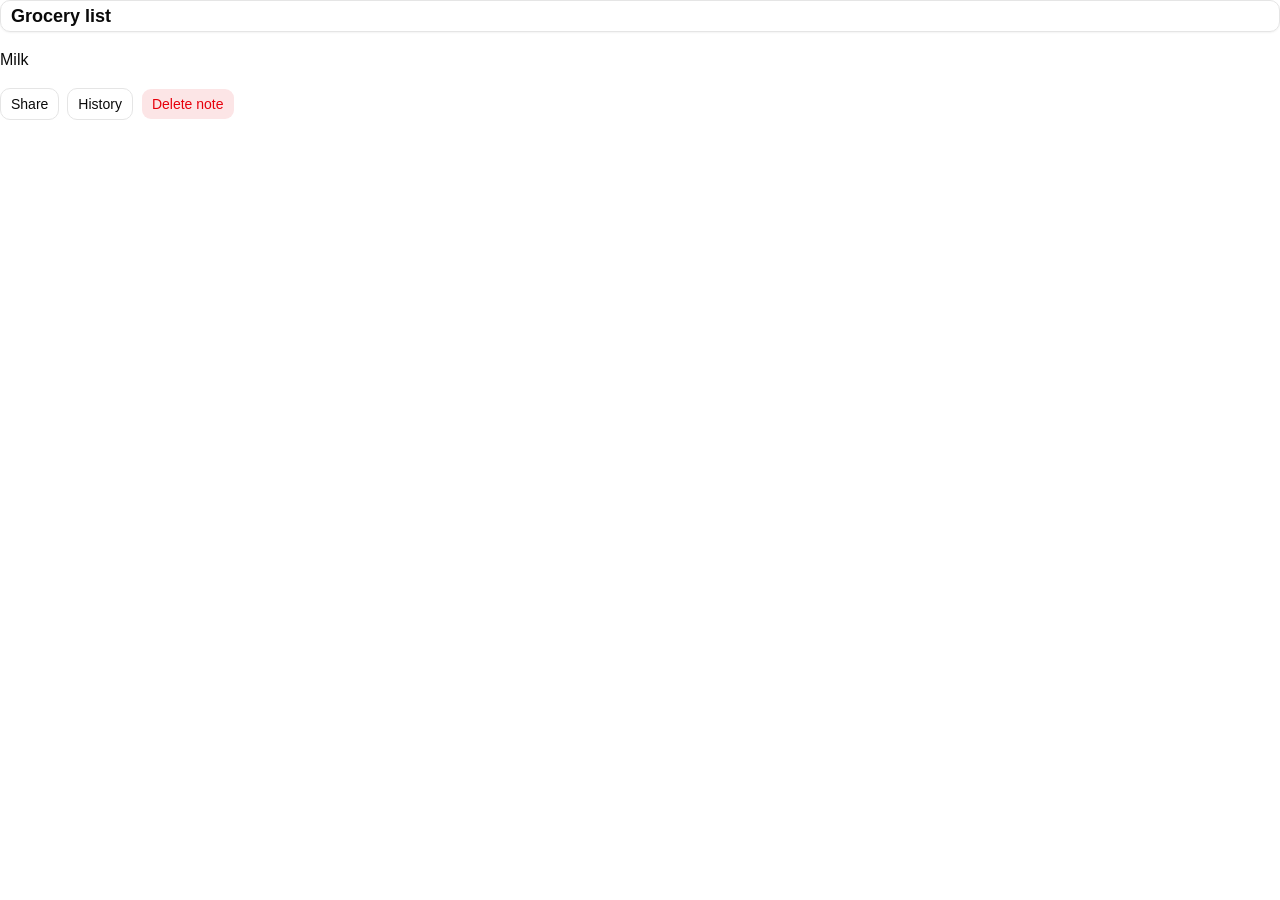
it: NoteEditorPage share entry point › opens the Share modal for the loaded note
expect the field named "title" holds "Grocery list": met, box x1=0 y1=0 x2=1279 y2=32
Step 1. Click the button "Share" → click(30, 104), box x1=0 y1=88 x2=59 y2=120
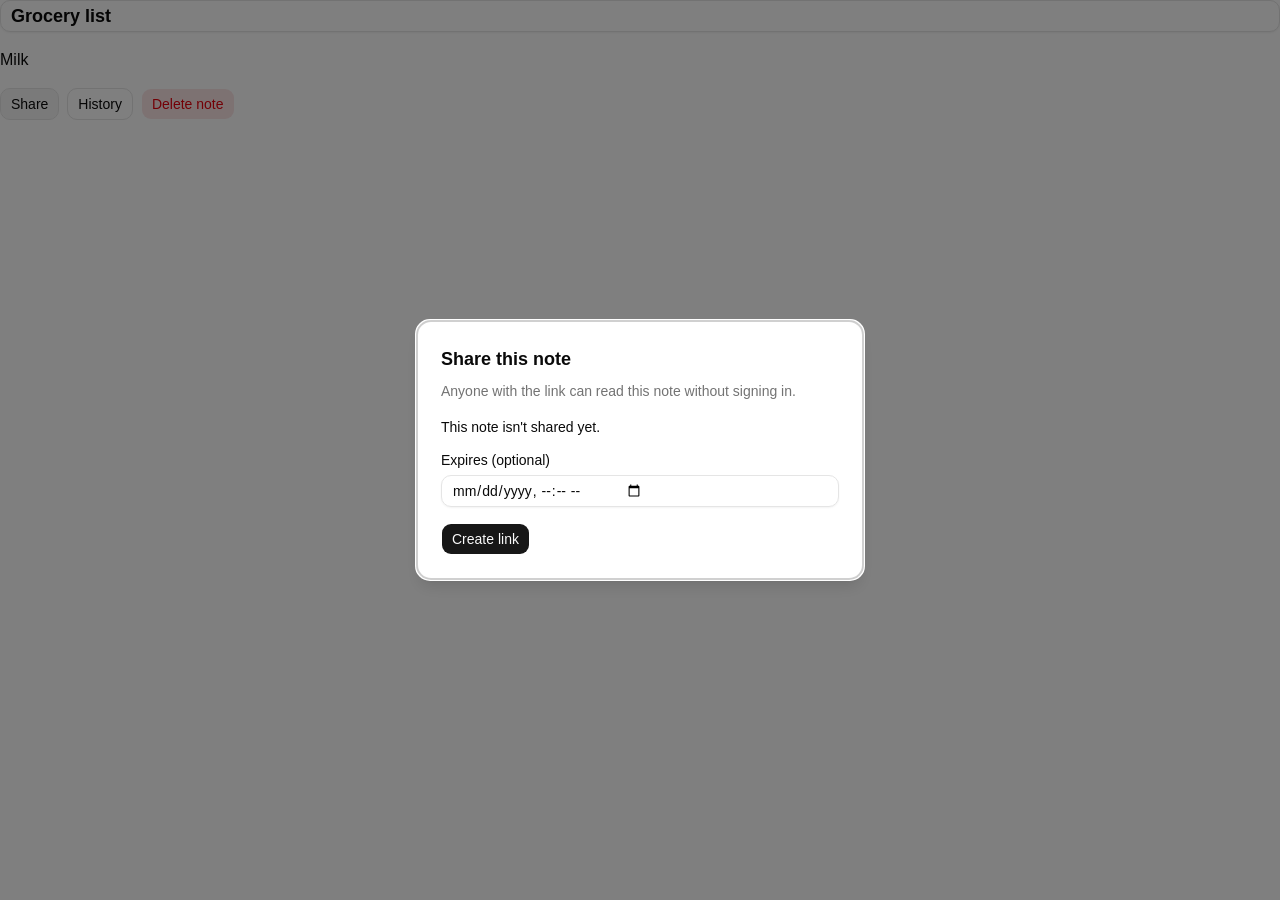
expect the dialog "Share this note" is shown: met, box x1=416 y1=320 x2=864 y2=580
